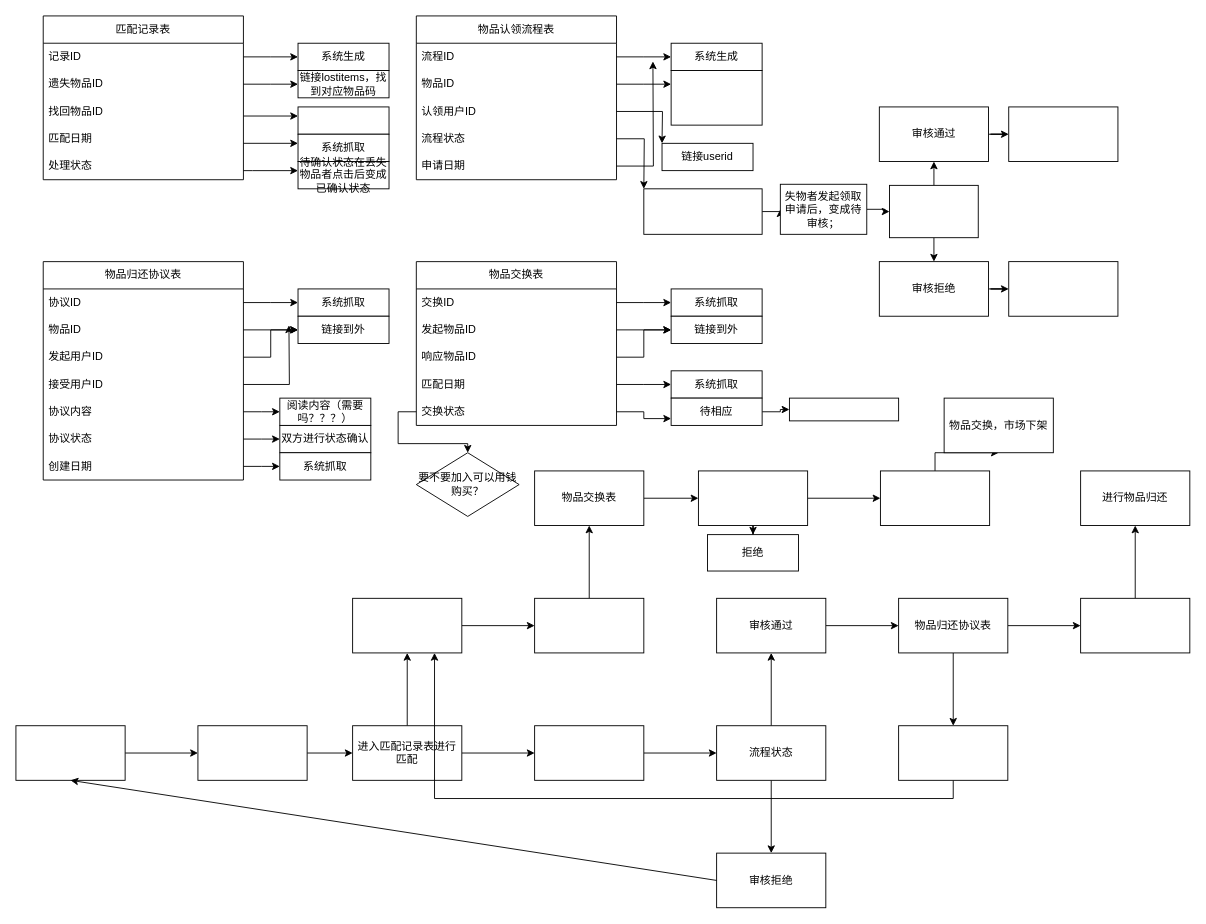
Some shapes in this 1206 by 924 pixel diagram are drawn without their labels. The centre of each missing label's shape, as x and y in pixels:
"修改表单。不允许失物者与捡到物品者进入归还流程" belongs at pixel 1063 288.
"修改表单，进入归还流程" belongs at pixel 1063 134.
"协议状态为不同意" belongs at pixel 953 752.
"协议状态为同意" belongs at pixel 1135 625.
"失主确认不需要归还" belongs at pixel 407 625.
"存在以下选项：待审核，审核通过，审核拒绝" belongs at pixel 702 211.
"归还一个物品" belongs at pixel 70 752.
"接受" belongs at pixel 935 498.
"接受/拒绝" belongs at pixel 844 409.
"旧物市场，发起一个交换，状态为待响应" belongs at pixel 753 498.
"物品进行归还流程" belongs at pixel 252 752.
"管理员审核结果" belongs at pixel 933 211.
"进入以物易物市场" belongs at pixel 589 625.
"进入物品认领流程表" belongs at pixel 589 752.
"链接founditems，找到对应物品码" belongs at pixel 343 120.
"链接lostitems，找到对应物品码，两个表都行，找到对应物品就行" belongs at pixel 716 97.
